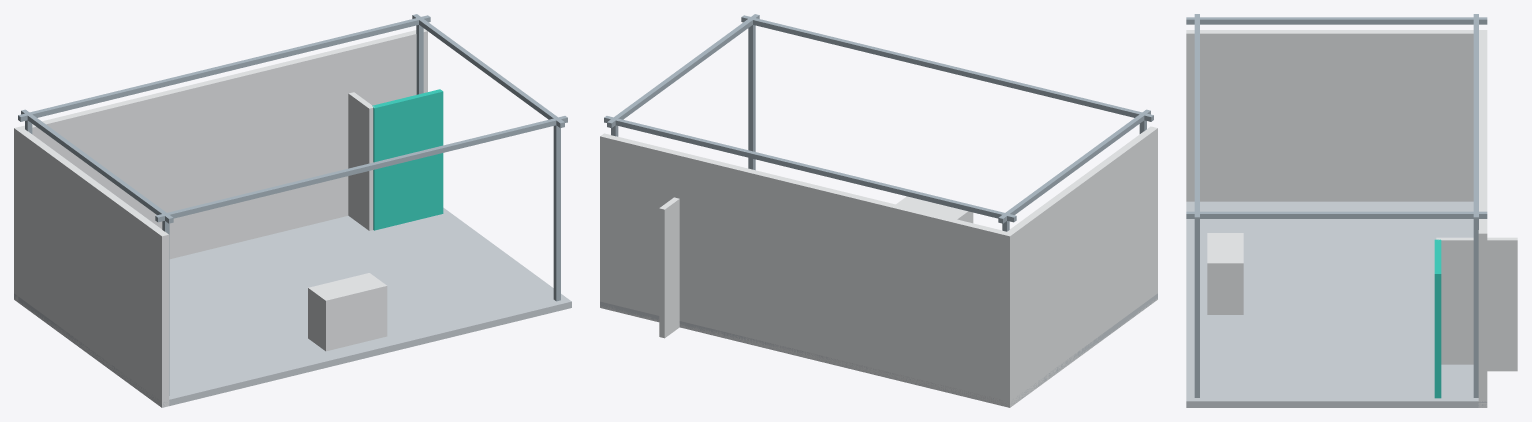
The picture shows the model from 3 angles, left to right: view 1: azimuth 30°, elevation 25°; view 2: azimuth 150°, elevation 25°; view 3: azimuth 270°, elevation 25°; orthographic projection.
Parts seen in each view (by area): view 1: Exhibition Booth Concept; view 2: Exhibition Booth Concept; view 3: Exhibition Booth Concept.
Part boxes in pixels (x1,y1,x2,y2): Exhibition Booth Concept: (14, 14, 571, 407); Exhibition Booth Concept: (600, 14, 1157, 407); Exhibition Booth Concept: (1186, 14, 1517, 407).
Size of the model in its own units: 8 by 3.49 by 5.51.
